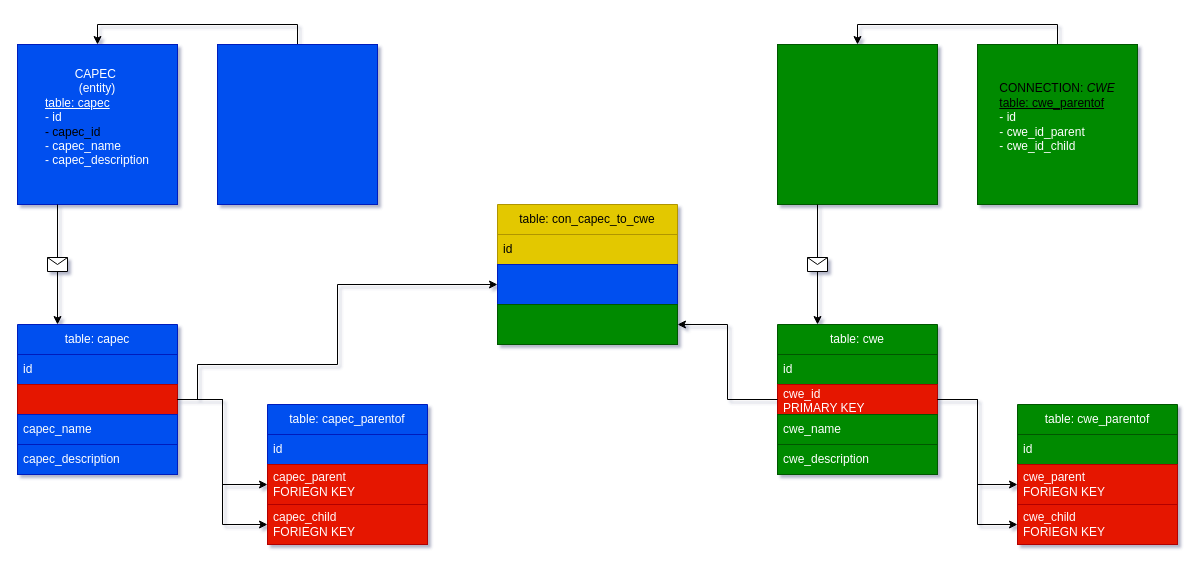
This 1201x568 diagram has some shape labels left out. The centre of each missing label's shape, as x and y in pixels:
capec_id FOREIGN KEY: the point at 587,284
capec_id PRIMARY KEY: the point at 97,399
CONNECTION: CAPEC table: capec_parentof - id - capec_id_parent - capec_id_child: the point at 297,124
CWE (entity) table: cwe - id - cwe_id - cwe_name - cwe_description: the point at 857,124
cwe_id FOREIGN KEY: the point at 587,324
